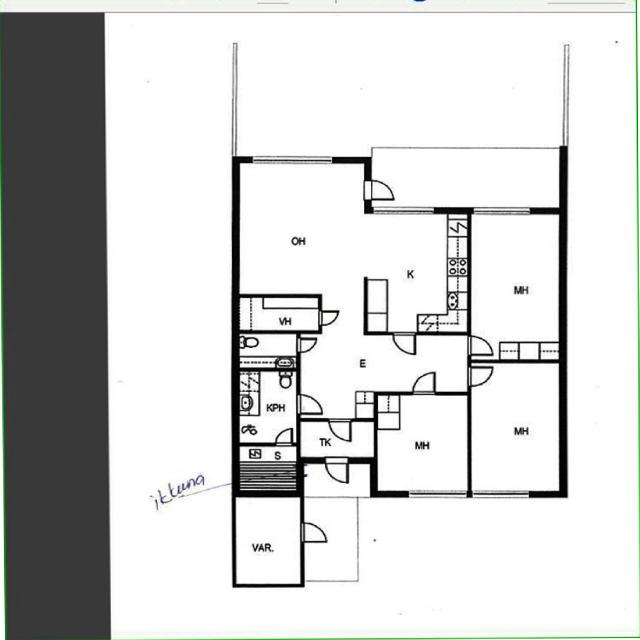door: (364, 180, 394, 199), (326, 458, 348, 483), (413, 372, 435, 395), (296, 395, 322, 414), (394, 332, 416, 354), (468, 367, 493, 386), (468, 336, 493, 355), (300, 523, 325, 541), (330, 418, 350, 440), (318, 312, 338, 326), (276, 429, 292, 446), (296, 339, 316, 352)
